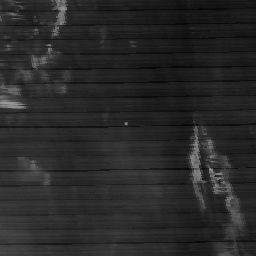Target: (123, 121, 129, 127)
